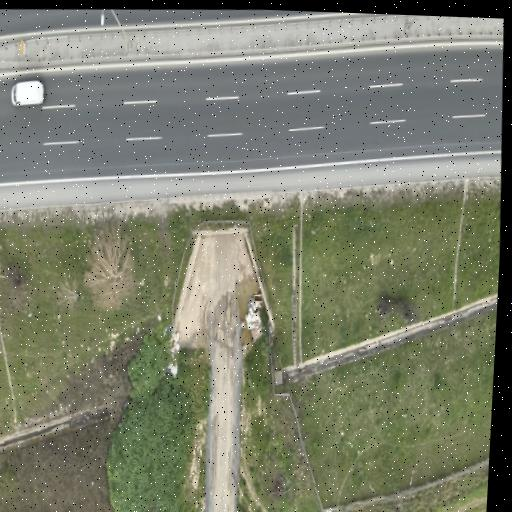car: (11, 81, 43, 106)
